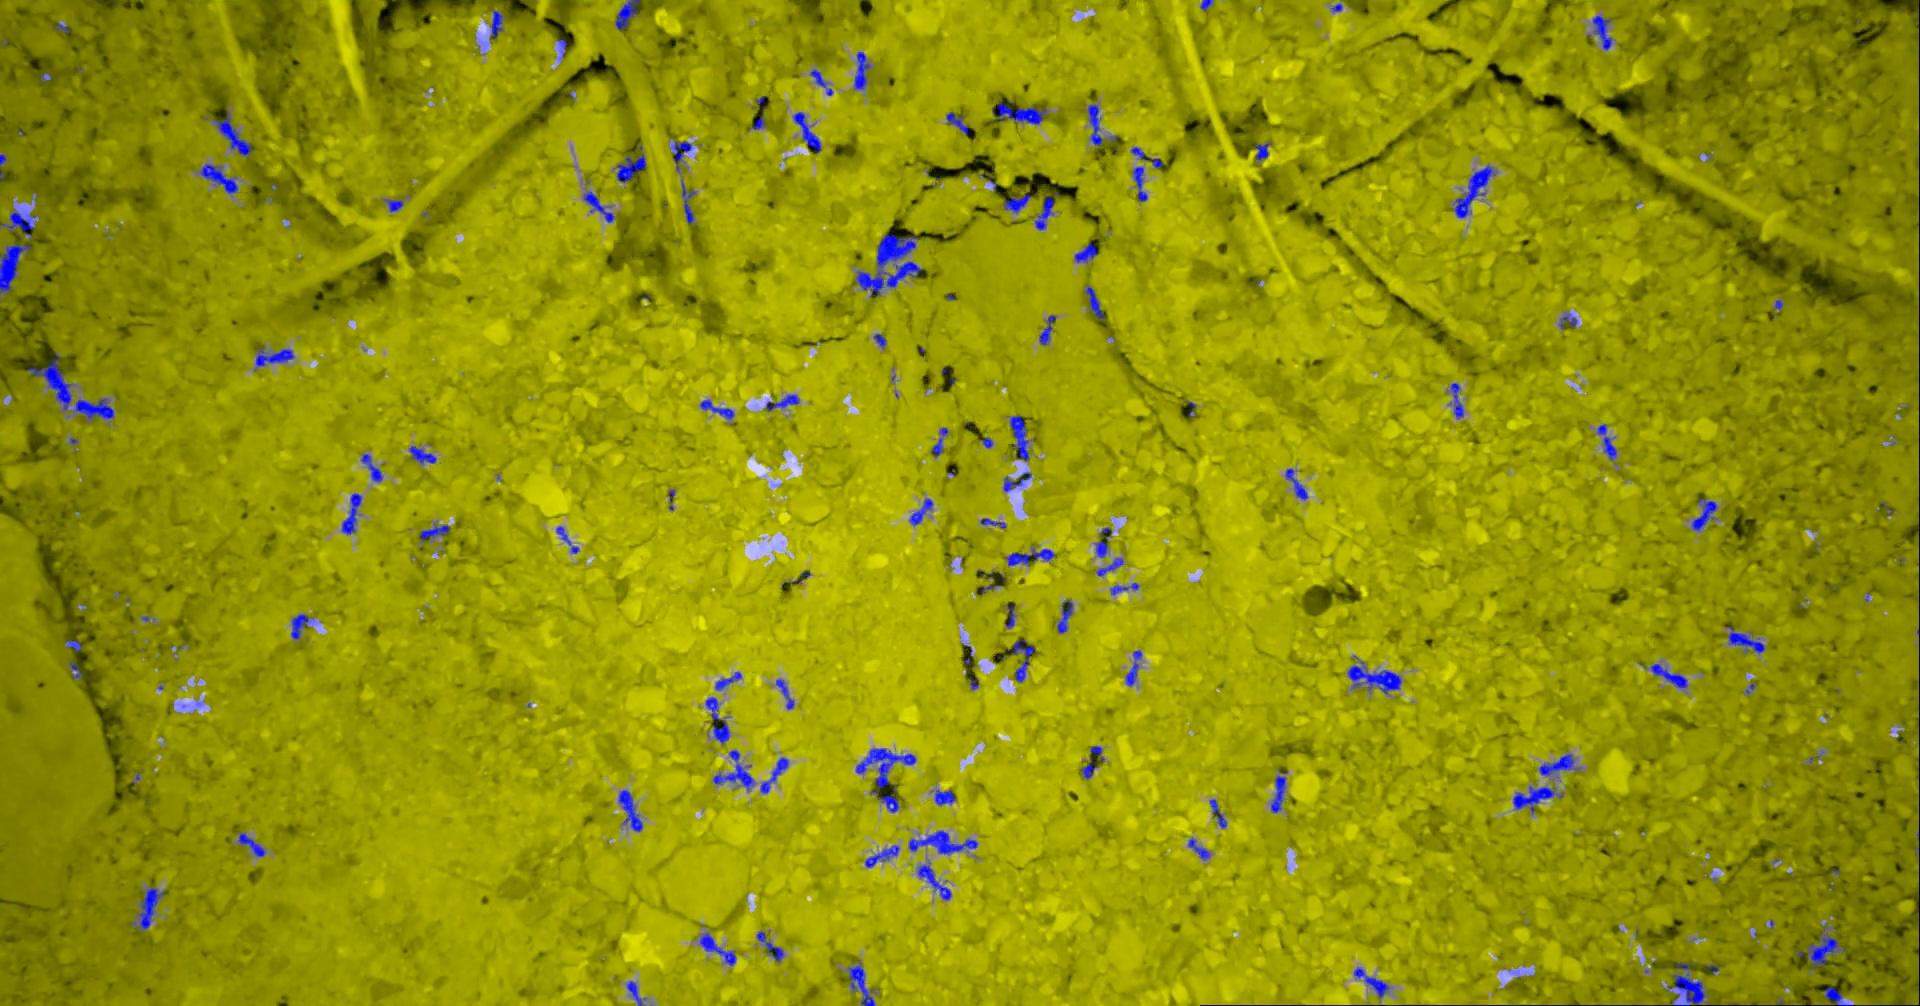ant: (855, 748, 916, 795), (27, 351, 72, 410), (1454, 165, 1495, 217), (1346, 661, 1401, 694), (712, 749, 754, 790), (908, 829, 977, 854), (213, 113, 251, 156), (0, 243, 30, 293), (1671, 963, 1705, 1005), (1512, 786, 1562, 813), (1810, 929, 1844, 967), (917, 862, 951, 899), (792, 111, 822, 152), (992, 102, 1045, 124), (698, 932, 735, 965), (613, 144, 645, 182), (1352, 967, 1389, 998), (199, 163, 237, 193), (1724, 625, 1764, 653), (848, 962, 874, 1005), (0, 210, 39, 236), (759, 757, 789, 793), (1010, 639, 1034, 681), (618, 789, 643, 831), (138, 887, 163, 929), (583, 191, 615, 222), (72, 398, 113, 420), (1650, 663, 1688, 687), (1690, 497, 1717, 530), (1538, 753, 1578, 775), (1010, 415, 1029, 461), (1006, 547, 1054, 565), (756, 931, 783, 962), (863, 845, 899, 868), (342, 493, 361, 533), (255, 347, 293, 366), (1596, 423, 1617, 459), (615, 0, 639, 29), (1591, 15, 1611, 50), (698, 399, 733, 419), (1130, 146, 1162, 168), (1285, 467, 1307, 499), (237, 832, 265, 856), (1084, 285, 1103, 319), (909, 497, 932, 525), (555, 525, 578, 553), (1034, 196, 1053, 229), (681, 179, 695, 224), (1087, 104, 1102, 145), (670, 141, 691, 171), (1270, 771, 1285, 812), (809, 69, 832, 95), (361, 453, 382, 481), (1125, 650, 1142, 686), (853, 51, 869, 89), (1823, 986, 1853, 1005), (290, 614, 312, 638), (764, 394, 797, 410), (1003, 471, 1030, 492), (714, 671, 742, 690), (1131, 166, 1147, 201), (946, 111, 968, 135), (775, 680, 792, 709), (409, 445, 436, 464), (1039, 314, 1055, 344), (1095, 527, 1111, 558), (1057, 600, 1072, 633), (1187, 837, 1209, 860), (1004, 193, 1030, 212), (931, 427, 947, 456), (1449, 382, 1463, 417), (1096, 558, 1123, 575), (419, 525, 450, 540), (1209, 799, 1225, 827), (1074, 243, 1097, 262), (626, 981, 644, 1005), (712, 719, 729, 743), (489, 10, 503, 38), (1110, 582, 1138, 594), (705, 697, 720, 720), (1079, 760, 1097, 779), (879, 794, 898, 812), (935, 789, 955, 805), (1559, 312, 1576, 329), (69, 661, 83, 678), (1004, 603, 1015, 627), (1255, 144, 1269, 160), (63, 639, 81, 652), (980, 518, 1004, 527), (1090, 746, 1103, 761), (385, 199, 403, 211), (752, 116, 764, 130), (872, 333, 885, 347)
